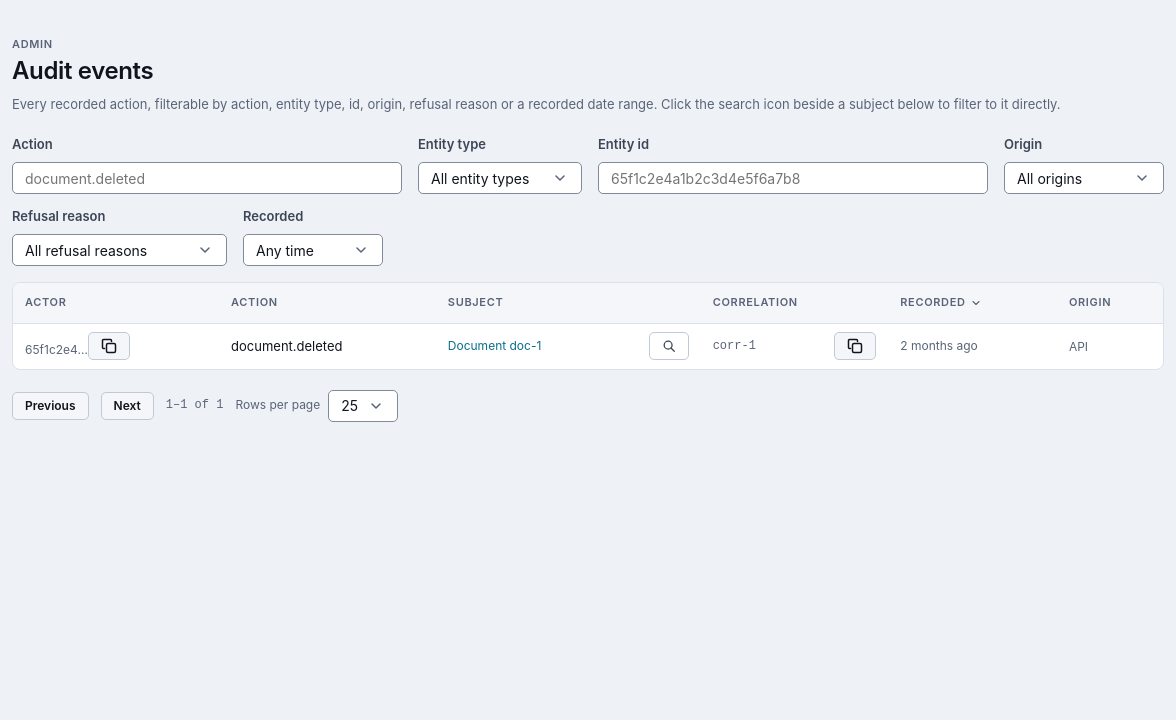
Test case: AuditEventsPage › keeps already-loaded rows on screen when a later refresh fails, rather than blanking them
Expected: the text "document.deleted" is shown, [219,324,436,369]
Click the button with aria-label "Sort by Action": {"x": 254, "y": 303} [231,295,278,311]
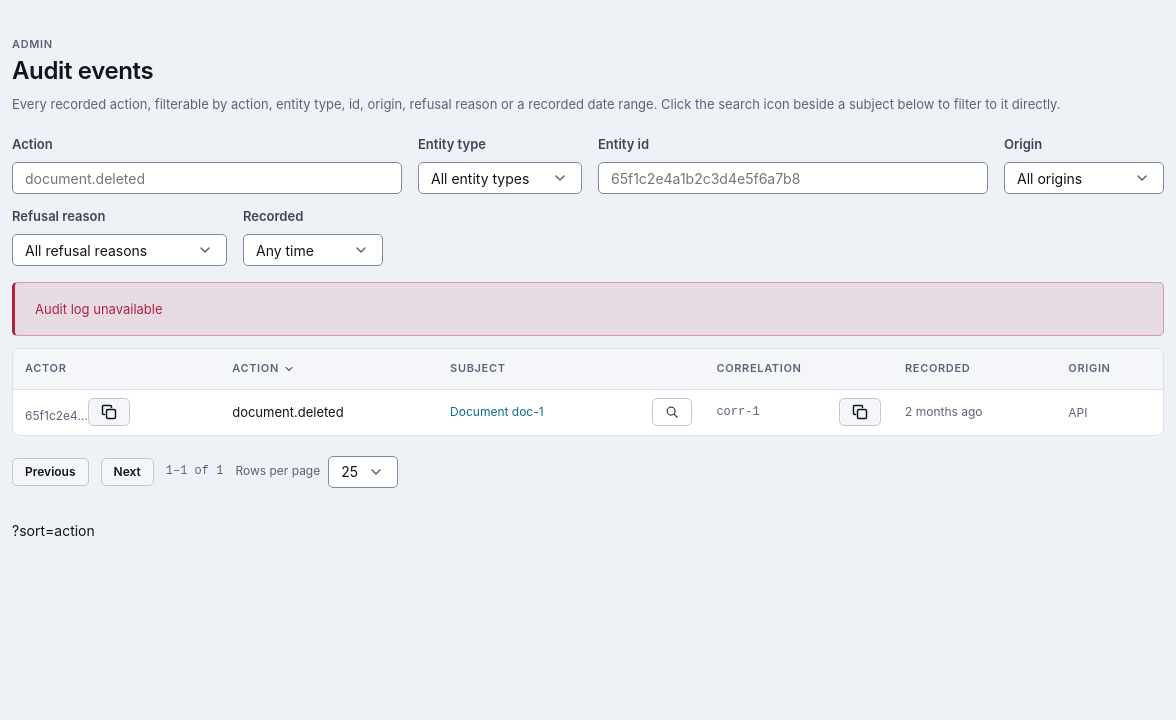
Expected: the text "document.deleted" is shown, [220,390,438,435]
Expected: the message reads "Audit log unavailable", [35,301,163,317]
